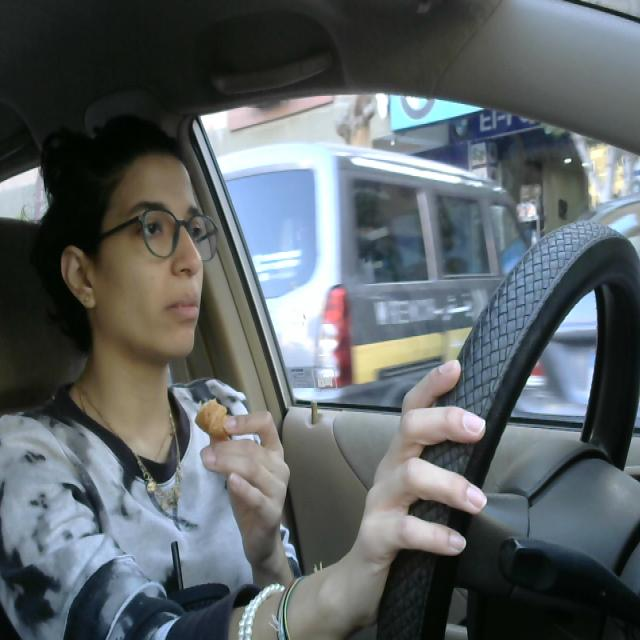eating: (194, 402, 246, 446)
